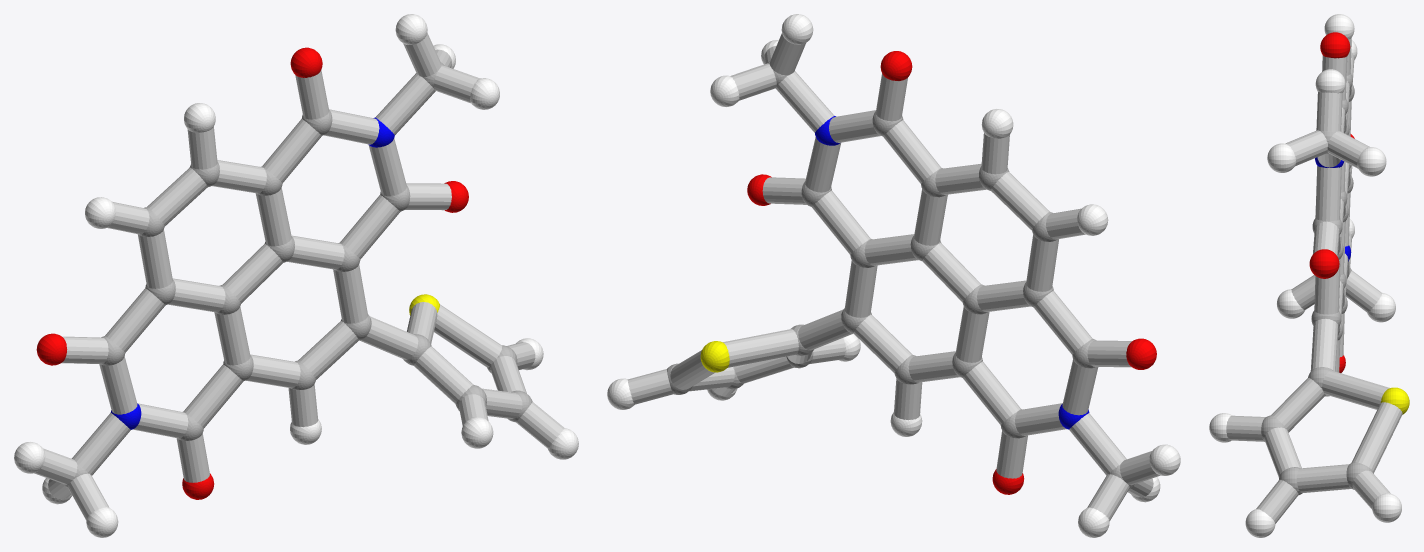
File: Dimethyl_Naphthalene_Dicarboximide_Phi_0_Theta_110_Thiophene.glb
3 renders of one model, left to right at view 1: azimuth 30°, elevation 25°; view 2: azimuth 150°, elevation 25°; view 3: azimuth 270°, elevation 25°, orthographic. The views are drawn at different scales.
Visible parts, largest first — view 1: grp14119, grp7241, grp1, grp12309, grp11585; view 2: grp14119, grp7241, grp1, grp12309, grp13757, grp11585; view 3: grp14119, grp7241, grp1, grp12309, grp13757.
Part boxes in pixels (x1,y1,x2,y2): grp14119: (34,33,564,520); grp7241: (14,14,578,537); grp1: (63,62,532,487); grp12309: (36,47,468,499); grp11585: (110,117,394,429); grp14119: (627,33,1160,520); grp7241: (607,14,1180,537); grp1: (667,60,1134,488); grp12309: (747,51,1156,494); grp13757: (700,341,729,372); grp11585: (815,116,1089,429); grp14119: (1226,38,1402,523); grp7241: (1209,14,1401,537); grp1: (1261,73,1373,494); grp12309: (1309,32,1354,372); grp13757: (1380,387,1409,414).
Size of the model in its own units: 11.89 by 9.15 by 4.01.
